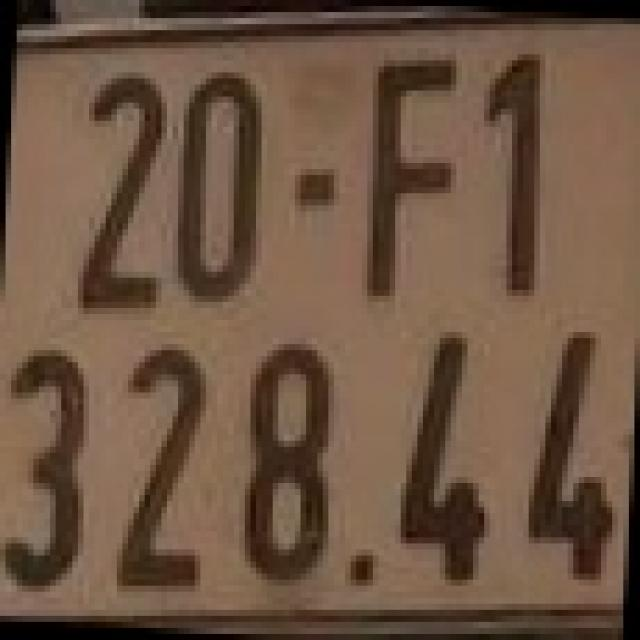0: (172, 66, 272, 308)
1: (479, 42, 562, 302)
2: (111, 338, 212, 598), (72, 66, 167, 314)
3: (0, 344, 89, 592)
4: (395, 320, 495, 586), (523, 320, 618, 586)
8: (234, 332, 345, 586)
F: (350, 42, 468, 308)
